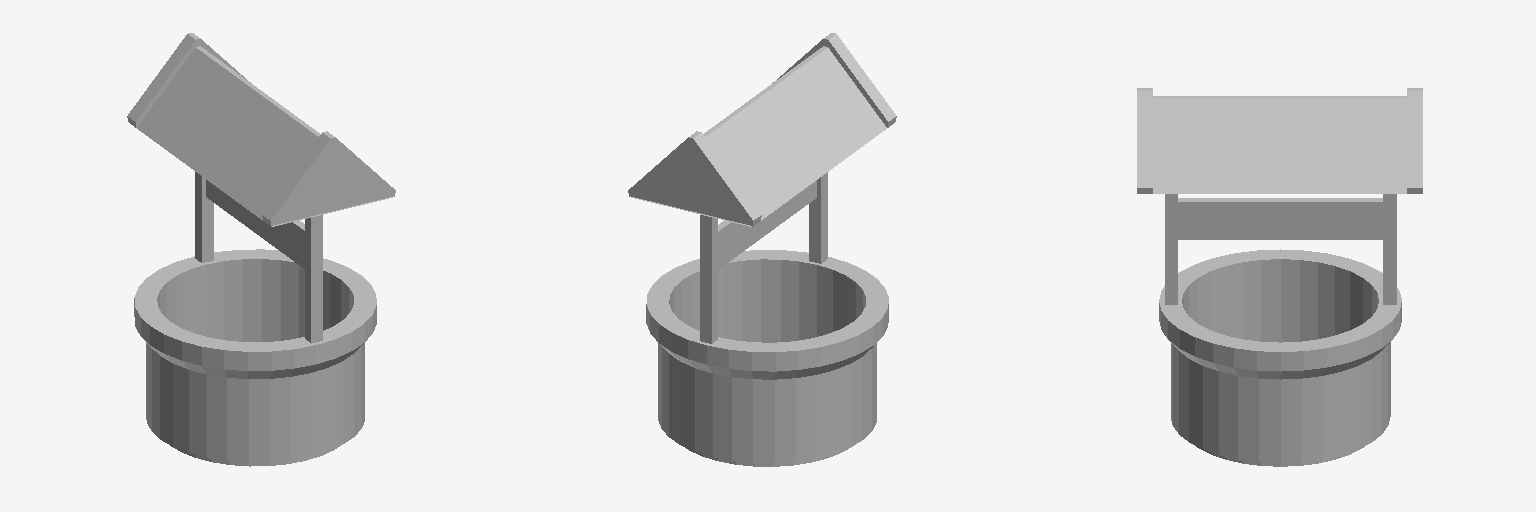
Rendered from well.obj.
3 views of the same model, side by side, from view 1: azimuth 30°, elevation 25°; view 2: azimuth 150°, elevation 25°; view 3: azimuth 270°, elevation 25° (orthographic).
Visible parts, largest first — view 1: Wellroof; view 2: Wellroof; view 3: Wellroof.
Boxes of the visible parts, <box> form: Wellroof: <box>127,33,395,466</box>; Wellroof: <box>628,33,896,466</box>; Wellroof: <box>1137,88,1422,466</box>.
Size of the model in its own units: 4.47 by 6.86 by 5.27.